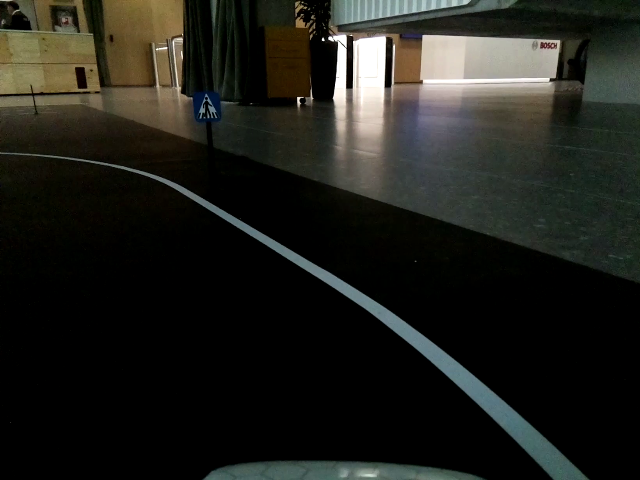pedestrians: (192, 92, 222, 122)
